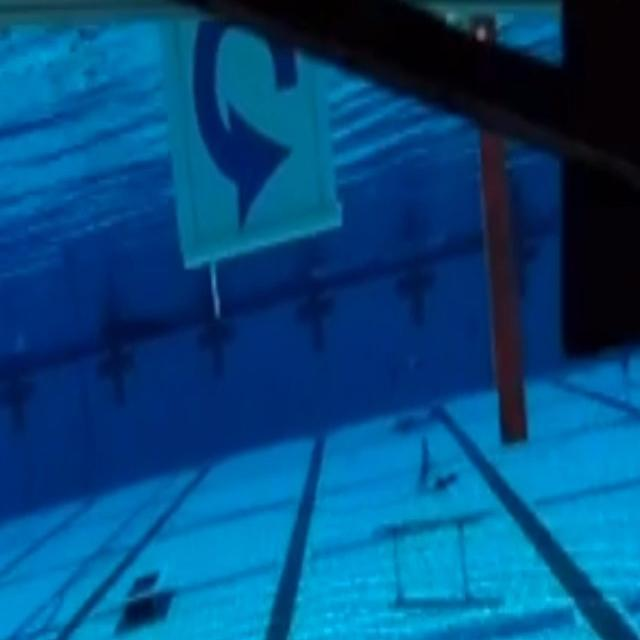Gate: (69, 0, 548, 460)
